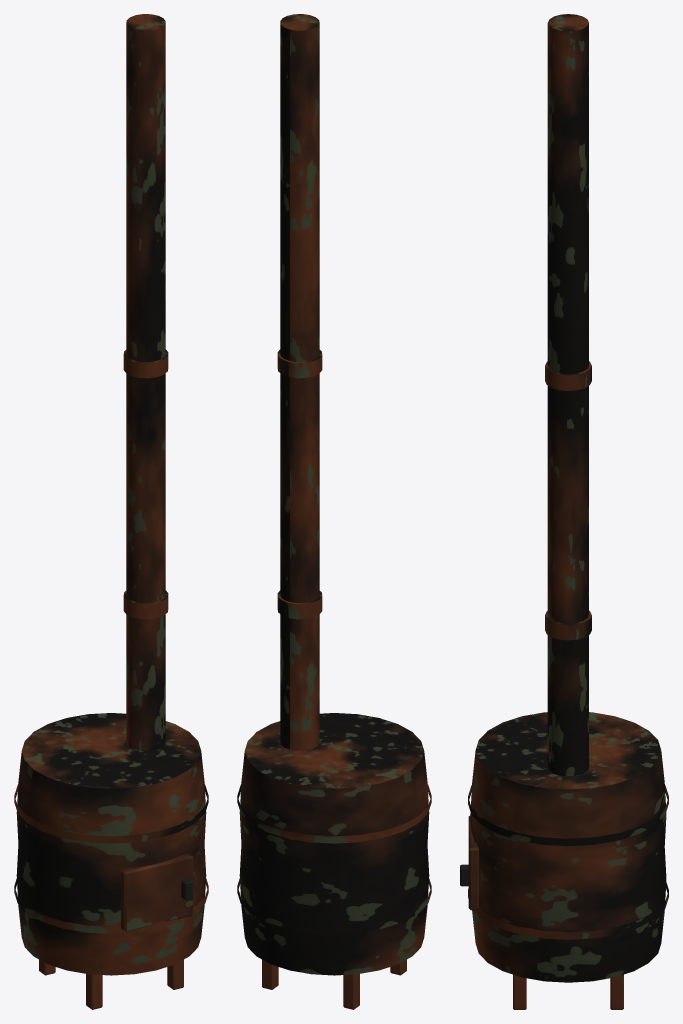
The model's file is S7U_Stove.fbx.
The picture shows the model from 3 angles, left to right: view 1: azimuth 30°, elevation 25°; view 2: azimuth 150°, elevation 25°; view 3: azimuth 270°, elevation 25°; orthographic projection. The views are drawn at different scales.
Visible parts, largest first — view 1: S7U_Stove; view 2: S7U_Stove; view 3: S7U_Stove.
Boxes of the visible parts, x1,y1,x2,y2 form: S7U_Stove: (14, 14, 208, 1009); S7U_Stove: (237, 14, 431, 1009); S7U_Stove: (460, 14, 668, 1009).
Size of the model in its own units: 0.584 by 3.15 by 0.607.
